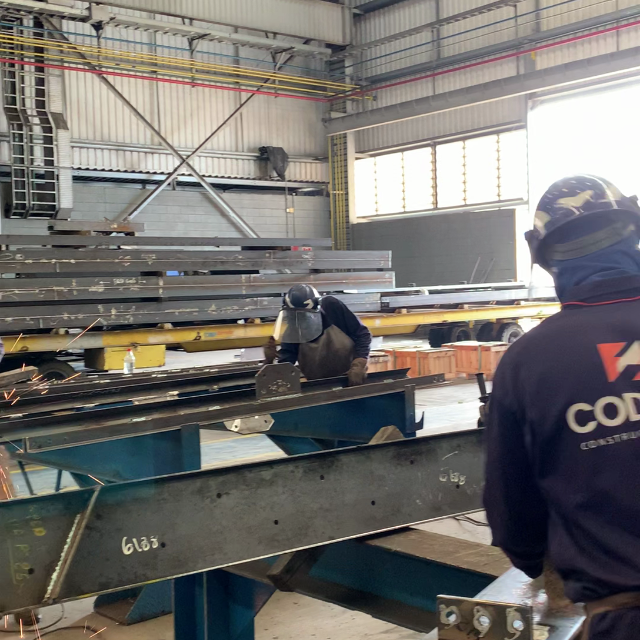face-shield: (527, 242, 559, 302), (273, 312, 324, 346)
glove: (343, 356, 369, 387)
helmet: (532, 175, 637, 238), (280, 278, 322, 312)
person: (482, 172, 633, 635), (262, 281, 373, 384)
